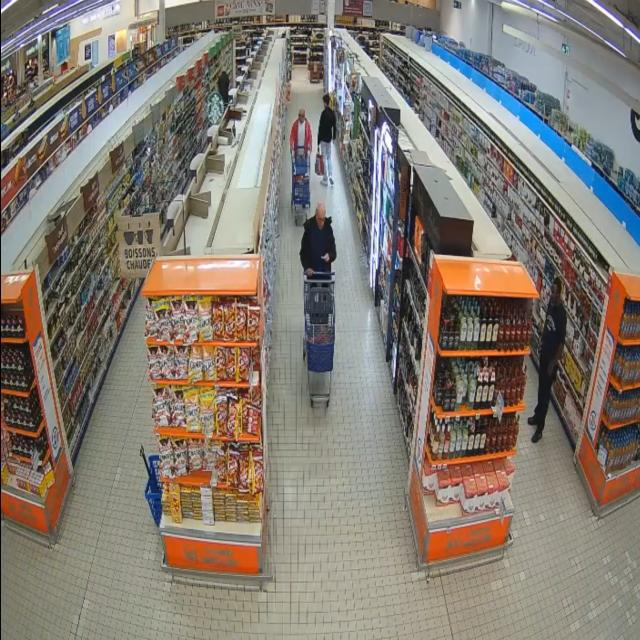bags: (315, 153, 324, 175)
hands: (548, 363, 555, 376), (307, 149, 311, 164), (322, 254, 329, 262), (306, 269, 313, 277), (317, 144, 321, 155), (291, 146, 295, 156), (332, 138, 335, 144)
person: (528, 277, 566, 443), (300, 203, 336, 276), (318, 94, 336, 185), (290, 109, 312, 157)
